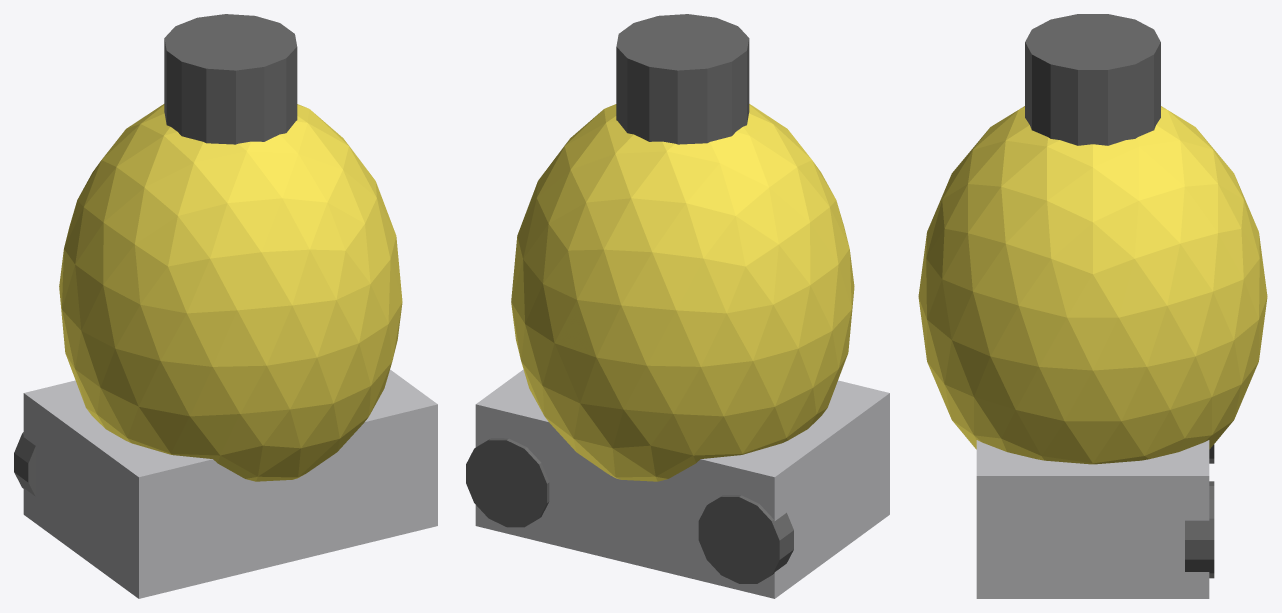
File: mixer.fbx
3 views of the same model, side by side, from view 1: azimuth 30°, elevation 25°; view 2: azimuth 150°, elevation 25°; view 3: azimuth 270°, elevation 25° (orthographic).
Parts seen in each view (by area): view 1: Mixer_Drum, Mixer_Base, Mixer_Mouth, Mixer_Wheel-7; view 2: Mixer_Drum, Mixer_Base, Mixer_Mouth, Mixer_Wheel-7, Mixer_Wheel7; view 3: Mixer_Drum, Mixer_Base, Mixer_Mouth, Mixer_Wheel7.
Part boxes in pixels (box(x1,y1,x2,y2)): Mixer_Drum: box(59, 104, 402, 481); Mixer_Base: box(23, 369, 437, 598); Mixer_Mouth: box(164, 14, 297, 144); Mixer_Wheel-7: box(14, 432, 35, 496); Mixer_Drum: box(511, 104, 854, 481); Mixer_Base: box(475, 369, 889, 598); Mixer_Mouth: box(616, 14, 749, 144); Mixer_Wheel-7: box(698, 495, 793, 583); Mixer_Wheel7: box(466, 438, 549, 527); Mixer_Drum: box(918, 106, 1267, 464); Mixer_Base: box(976, 440, 1209, 598); Mixer_Mouth: box(1025, 14, 1160, 145); Mixer_Wheel7: box(1185, 481, 1214, 578).
Bounding box in the file's own units: 1.89 × 2.75 × 1.8.
